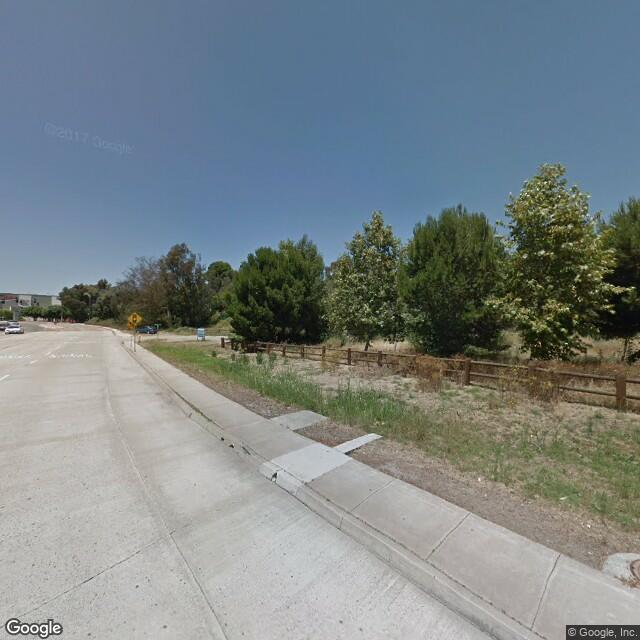litter: (558, 493, 572, 506), (475, 474, 483, 483)
